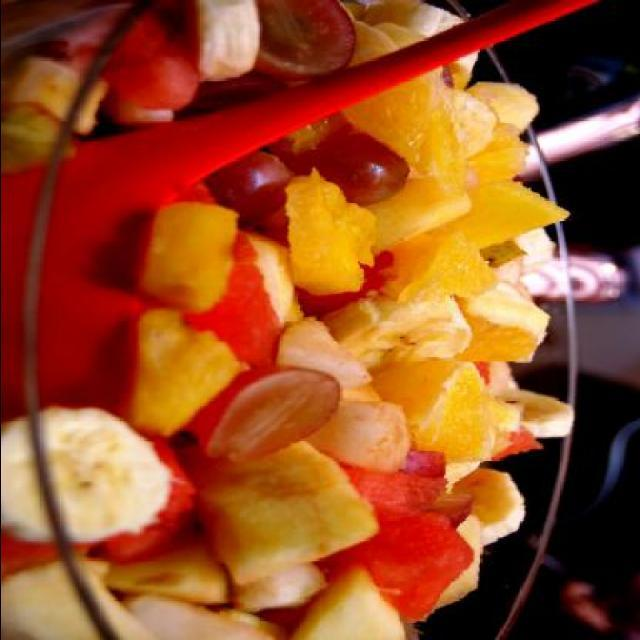Watermelon: (318, 461, 472, 617), (60, 4, 204, 106), (106, 441, 202, 562), (189, 264, 293, 368), (299, 258, 395, 314), (488, 426, 544, 460), (472, 358, 490, 384)
